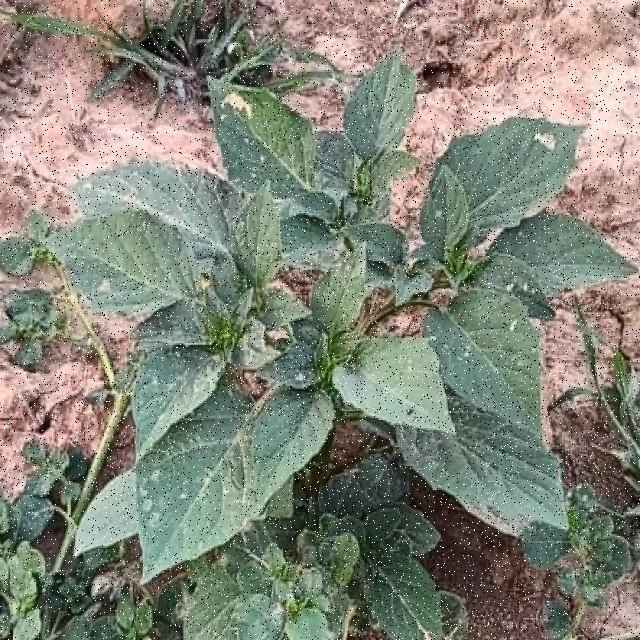weed: (425, 288, 542, 433)
